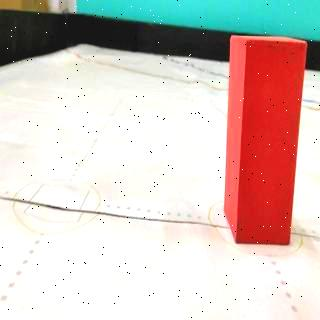redbox: (224, 34, 308, 246)
